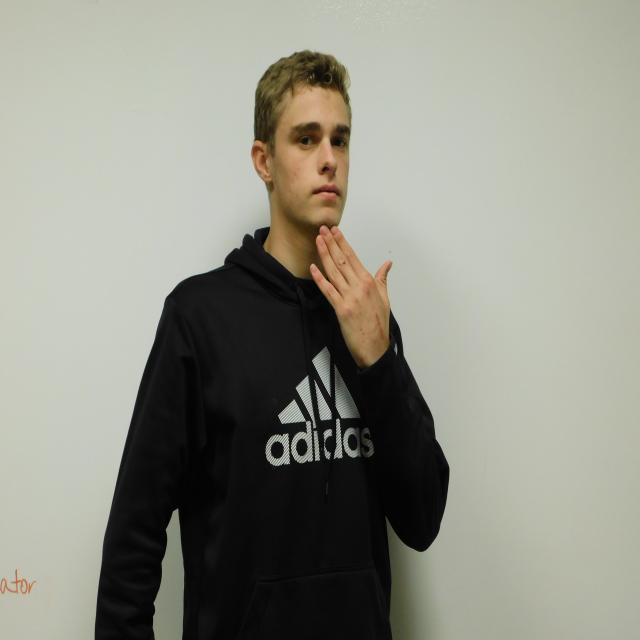thank-you: (311, 224, 392, 358)
